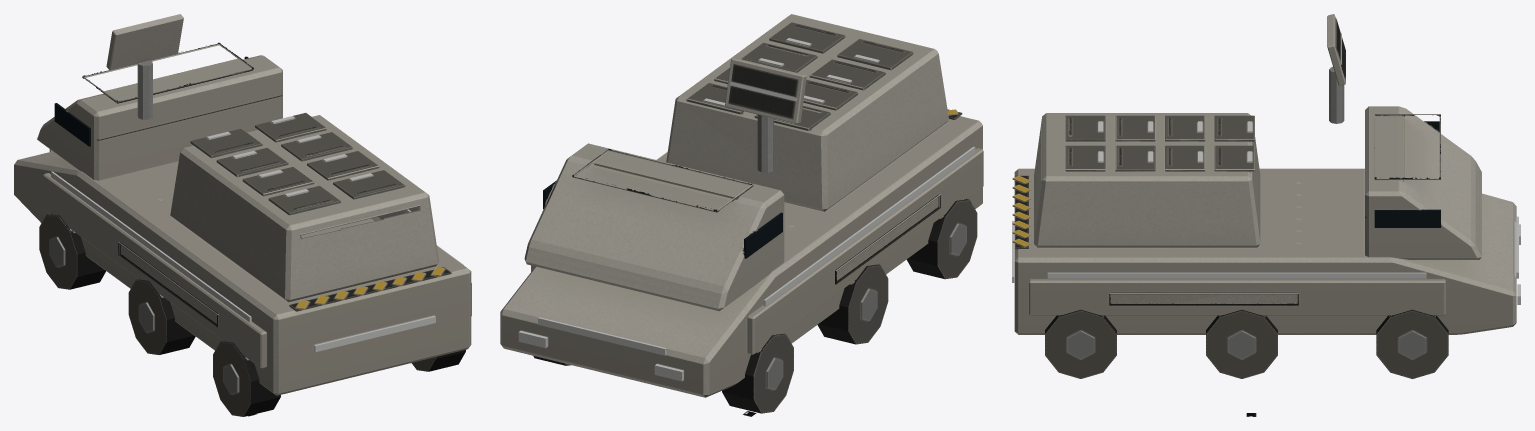
The model's file is ord_shepherd.fbx.
The picture shows the model from 3 angles, left to right: view 1: azimuth 30°, elevation 25°; view 2: azimuth 150°, elevation 25°; view 3: azimuth 270°, elevation 25°; orthographic projection. The views are drawn at different scales.
Parts seen in each view (by area): view 1: base_bar, launcher_bar, wheelL2_bar, wheelL3_bar, wheelL1_bar, radar_bar, base_glow_running_bar, launcher_glow_weapon_bar, wheelR3_bar; view 2: base_bar, launcher_bar, radar_bar, wheelL1_bar, wheelL2_bar, wheelL3_bar, base_glow_running_bar, base_glow_head_bar, launcher_glow_weapon_bar; view 3: base_bar, launcher_bar, wheelR1_bar, wheelR2_bar, wheelR3_bar, base_glow_running_bar, radar_bar, launcher_glow_weapon_bar.
Part boxes in pixels (left/top/right/bottom): base_bar: left=14, top=42, right=471, bottom=395; launcher_bar: left=170, top=112, right=438, bottom=302; wheelL2_bar: left=128, top=279, right=195, bottom=354; wheelL3_bar: left=213, top=341, right=280, bottom=416; wheelL1_bar: left=39, top=213, right=105, bottom=289; radar_bar: left=106, top=14, right=183, bottom=70; base_glow_running_bar: left=49, top=149, right=463, bottom=352; launcher_glow_weapon_bar: left=206, top=116, right=373, bottom=196; wheelR3_bar: left=411, top=350, right=465, bottom=371; base_bar: left=500, top=109, right=983, bottom=397; launcher_bar: left=666, top=14, right=948, bottom=211; radar_bar: left=725, top=57, right=806, bottom=123; wheelL1_bar: left=722, top=333, right=793, bottom=413; wheelL2_bar: left=817, top=264, right=888, bottom=344; wheelL3_bar: left=906, top=199, right=977, bottom=279; base_glow_running_bar: left=538, top=146, right=975, bottom=355; base_glow_head_bar: left=518, top=330, right=683, bottom=381; launcher_glow_weapon_bar: left=703, top=38, right=879, bottom=106; base_bar: left=1012, top=66, right=1516, bottom=334; launcher_bar: left=1034, top=113, right=1260, bottom=247; wheelR1_bar: left=1376, top=309, right=1448, bottom=378; wheelR2_bar: left=1206, top=310, right=1277, bottom=378; wheelR3_bar: left=1045, top=309, right=1116, bottom=378; base_glow_running_bar: left=1012, top=216, right=1518, bottom=282; radar_bar: left=1327, top=14, right=1345, bottom=85; launcher_glow_weapon_bar: left=1098, top=121, right=1252, bottom=162.
Size of the model in its own units: 508 by 832 by 1074.
Materials: 2 (2 with a texture image).
